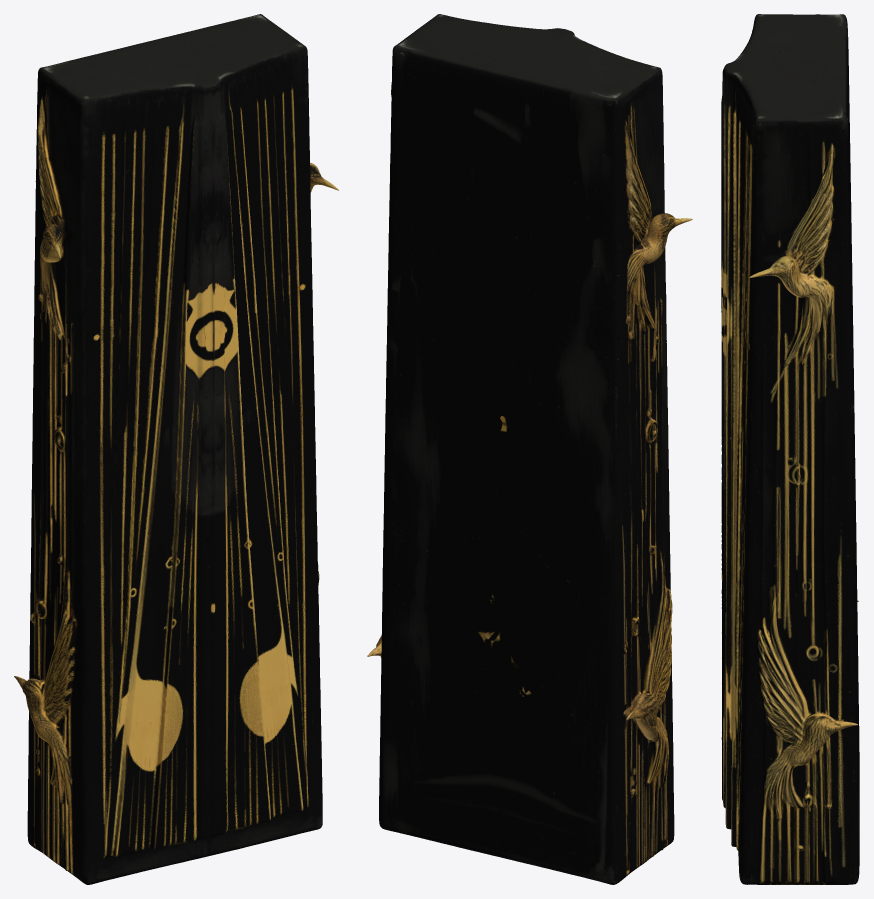
Rendered from golden-hummingbirds-mouthstone.glb.
3 renders of one model, left to right at view 1: azimuth 30°, elevation 25°; view 2: azimuth 150°, elevation 25°; view 3: azimuth 270°, elevation 25°, orthographic. The views are drawn at different scales.
Bounding box in the file's own units: 0.7076 × 1.9 × 0.3113.
Materials: 1 (1 with a texture image).
